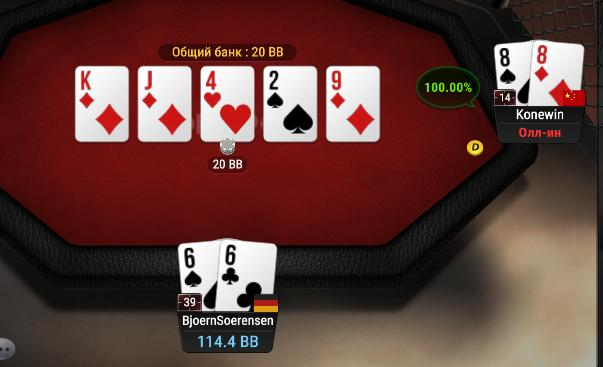2s: (264, 67, 316, 141)
4h: (200, 67, 253, 142)
6c: (218, 240, 278, 312)
6s: (175, 240, 218, 311)
8d: (531, 40, 584, 106)
8s: (494, 42, 531, 105)
9d: (326, 66, 379, 141)
Jd: (138, 68, 191, 142)
Kd: (76, 65, 129, 140)
